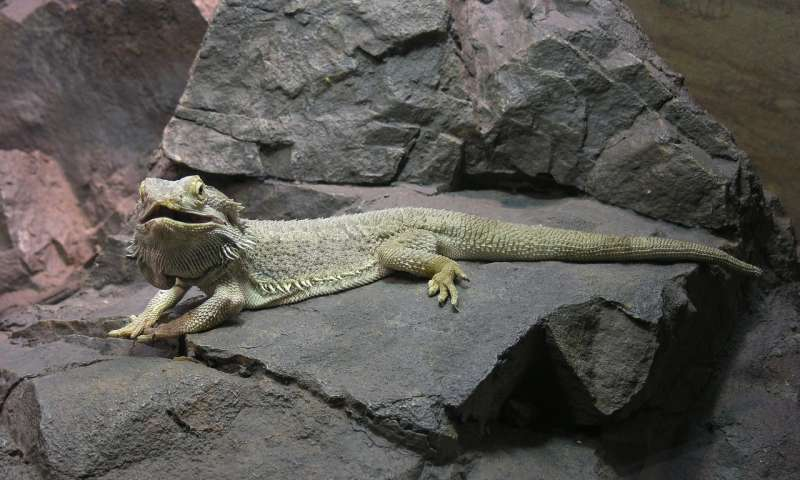bearded: (127, 168, 764, 342)
